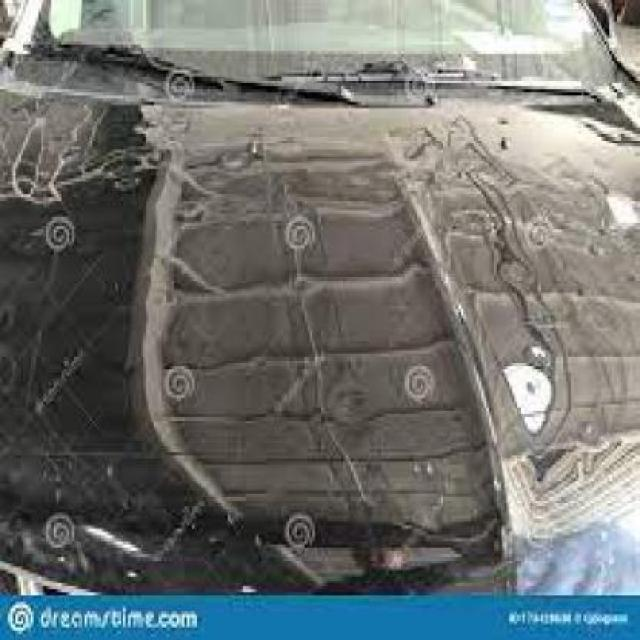damaged-hood: (0, 63, 638, 603)
